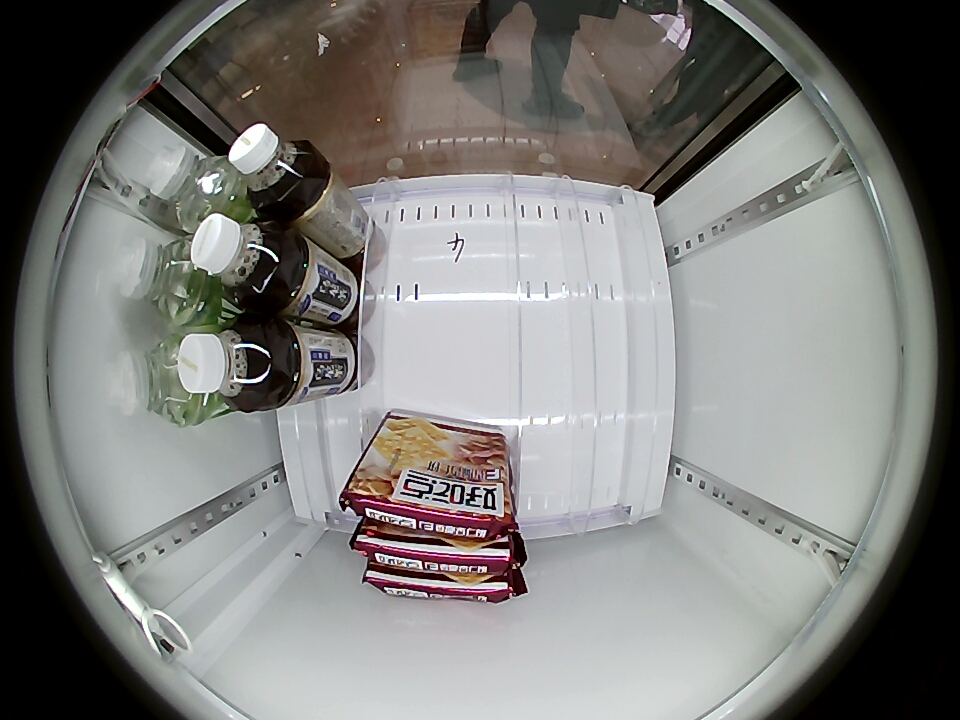haochidian: (339, 459, 519, 534), (348, 530, 526, 575), (361, 568, 530, 603)
jianjiao: (110, 333, 198, 426), (117, 236, 206, 325), (148, 144, 239, 229)
wulongcha: (191, 213, 289, 308), (178, 319, 278, 412), (228, 123, 320, 214)
